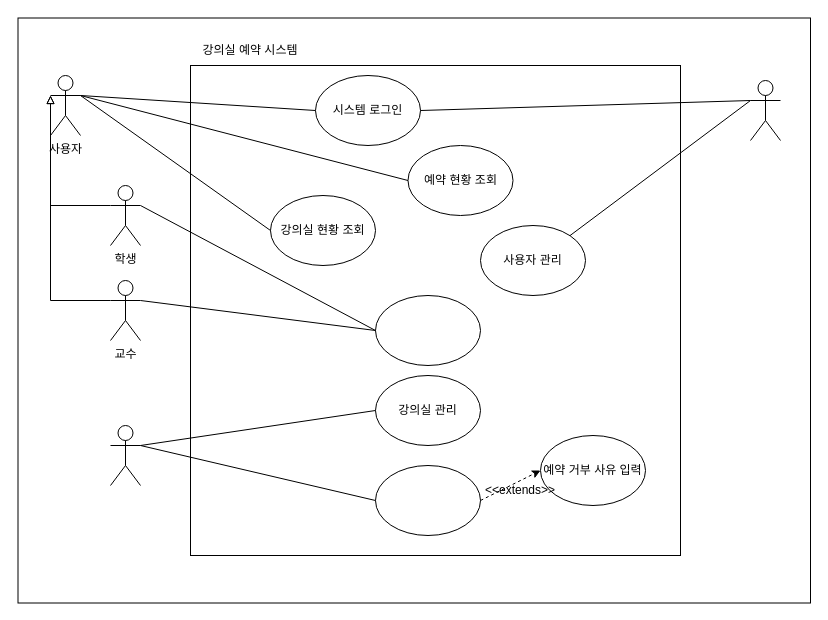
This 828x620 diagram has some shape labels left out. The box of each missing label's shape, as (x1, y1, x2, y2) in pixels:
관리자: (750, 80, 780, 140)
예약 등록: (374, 294, 480, 366)
예약 상태 관리 ExtensionPoints 예약 거부 시: (374, 464, 480, 536)
조교: (110, 424, 140, 486)
